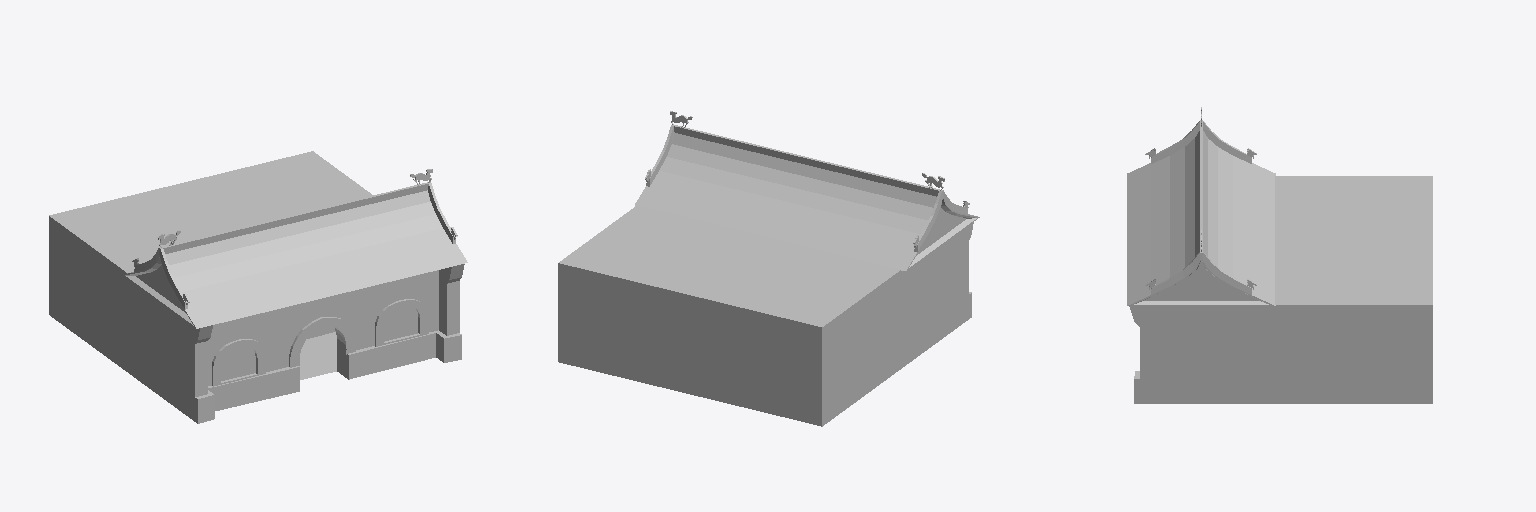
File: res.obj
3 renders of one model, left to right at view 1: azimuth 30°, elevation 25°; view 2: azimuth 150°, elevation 25°; view 3: azimuth 270°, elevation 25°, orthographic.
Visible parts, largest first — view 1: china; view 2: china; view 3: china.
Boxes of the visible parts, x1=… form: china: x1=49, y1=151, x2=467, y2=423; china: x1=558, y1=111, x2=979, y2=426; china: x1=1127, y1=107, x2=1432, y2=403.
Size of the model in its own units: 1 by 0.5746 by 0.9619.